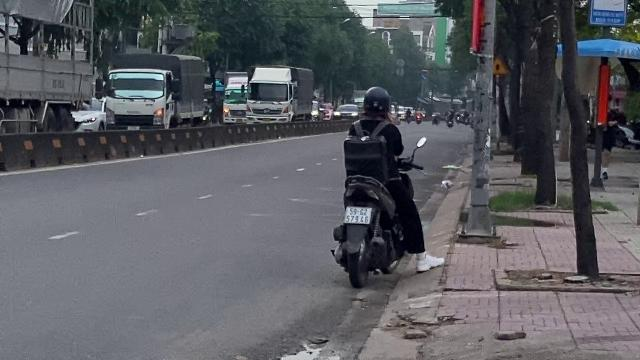helmet: (359, 86, 391, 118)
licenseplate: (345, 206, 371, 222)
motorcyclist: (329, 83, 427, 286)
